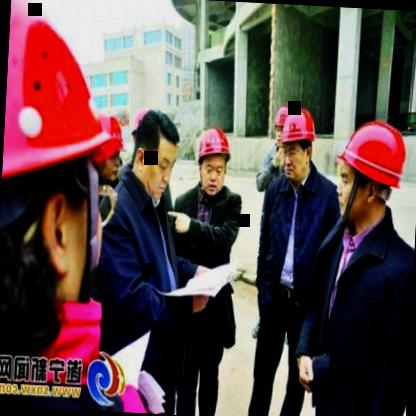helmet: (0, 0, 127, 321), (335, 116, 407, 218), (193, 124, 230, 197), (280, 105, 316, 180), (92, 114, 125, 176), (273, 98, 295, 144)
